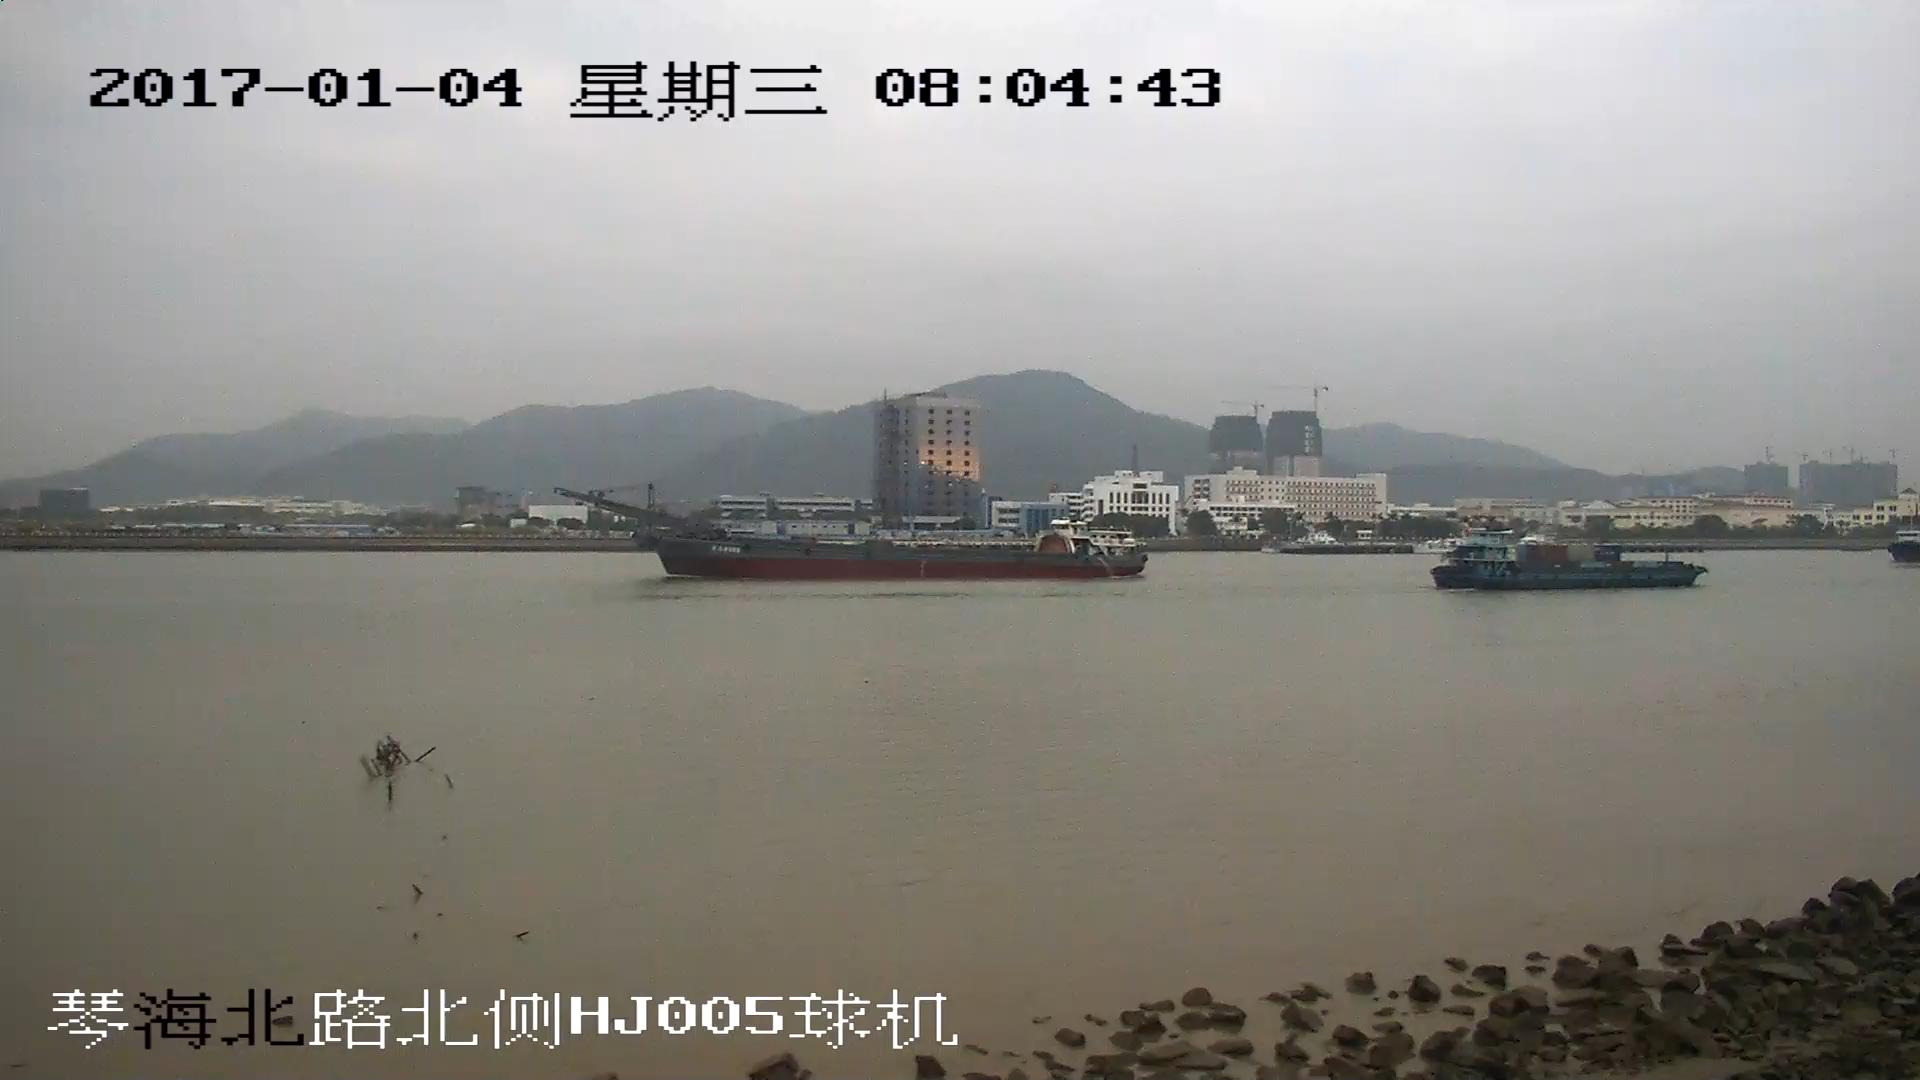bulk cargo carrier: (554, 489, 1149, 580)
container ship: (1430, 540, 1702, 589)
